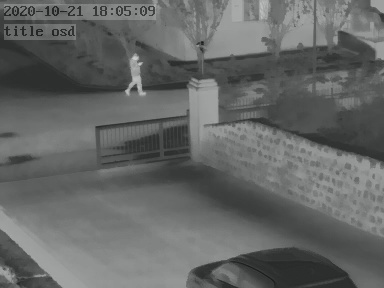person: (127, 51, 144, 93)
vehicle: (185, 244, 360, 288)
